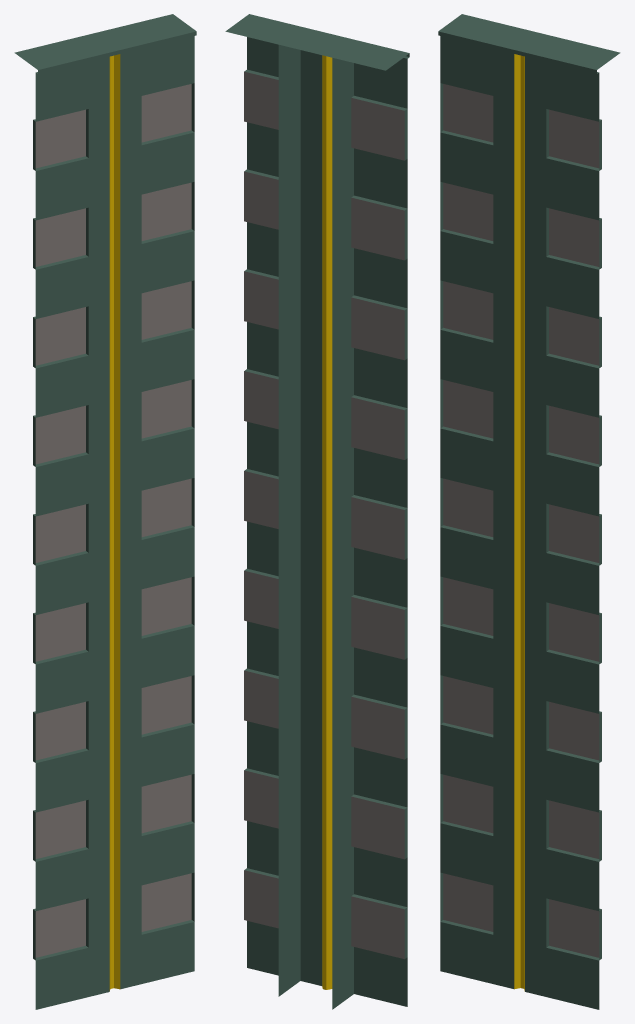
3 renders of one model, left to right at view 1: azimuth 30°, elevation 25°; view 2: azimuth 150°, elevation 25°; view 3: azimuth 330°, elevation 25°, orthographic.
Parts seen in each view (by area): view 1: Column.049; view 2: Column.049; view 3: Column.049.
Boxes of the visible parts, left/top/right/bottom form: Column.049: left=14, top=14, right=196, bottom=1009; Column.049: left=225, top=14, right=409, bottom=1009; Column.049: left=438, top=14, right=620, bottom=1009.
Size of the model in its own units: 835 by 4734 by 217.
